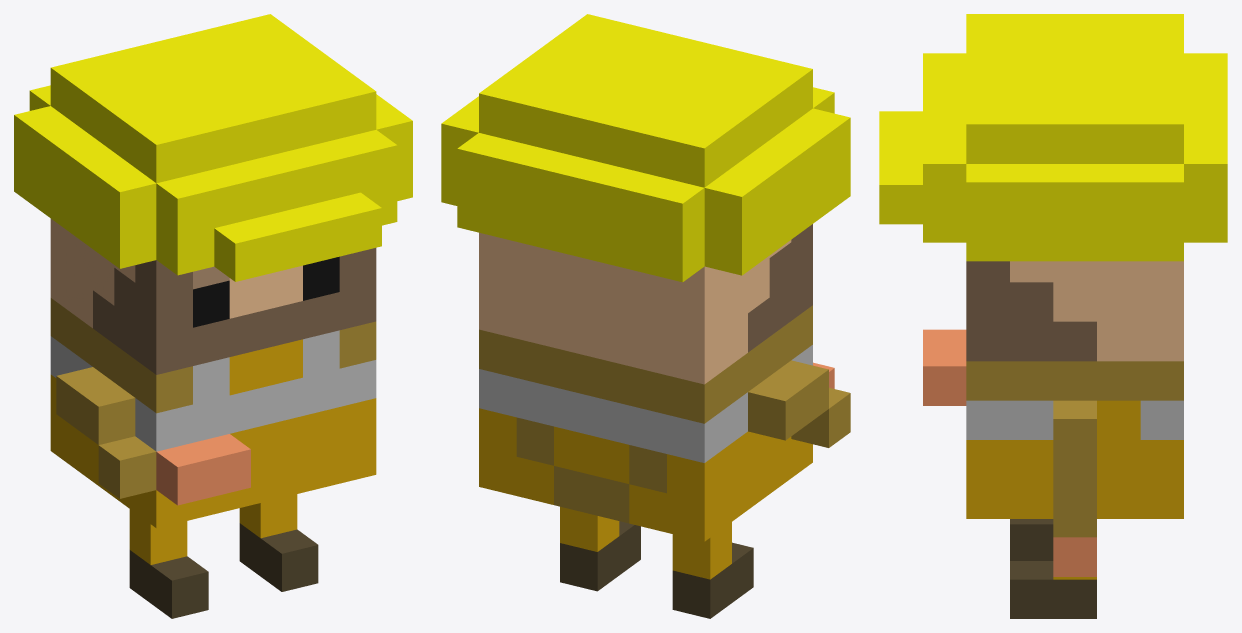
The model's file is OG character.obj.
3 views of the same model, side by side, from view 1: azimuth 30°, elevation 25°; view 2: azimuth 150°, elevation 25°; view 3: azimuth 270°, elevation 25° (orthographic). The views are drawn at different scales.
Bounding box in the file's own units: 0.8 × 1.3 × 0.8.
Materials: 1 (1 with a texture image).
